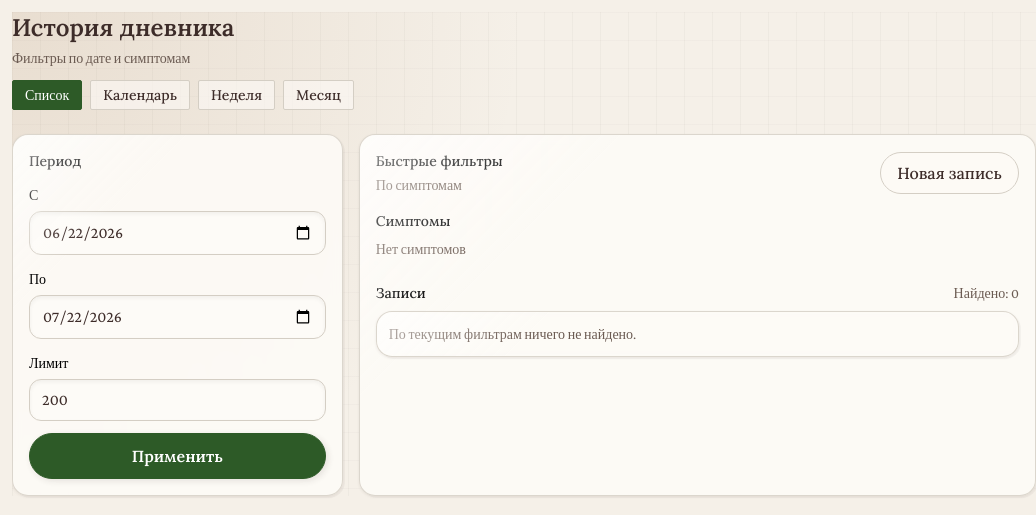
Scenario: DiaryHistoryPage › should render weekly overview when switching to Weekly view
The width and height of the screenshot is (1036, 515).
Click the button "Неделя".
click(237, 95)  # box [198,80,275,110]
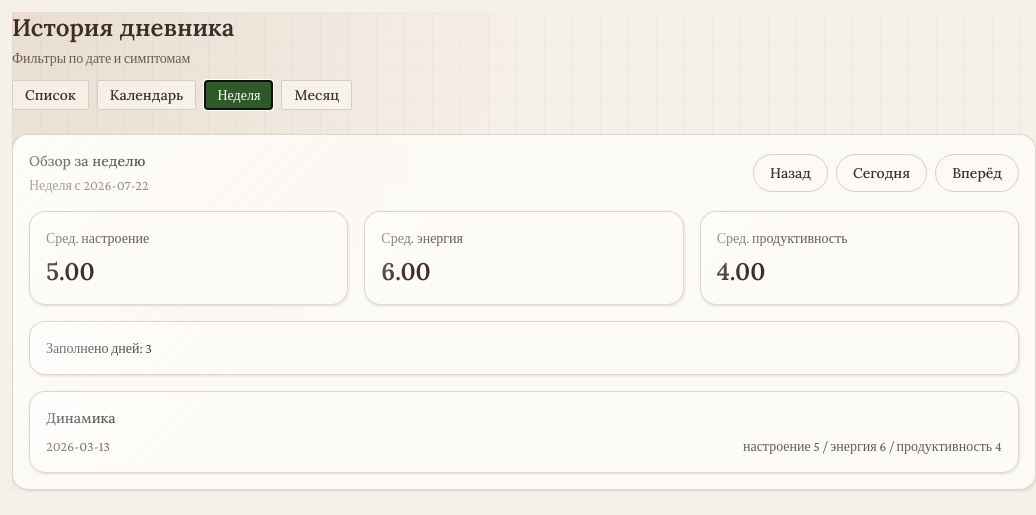
Now the text "Обзор за неделю" is shown, box [29,151,149,171]
Now the text "Сред. настроение" is shown, box [46,230,149,246]
